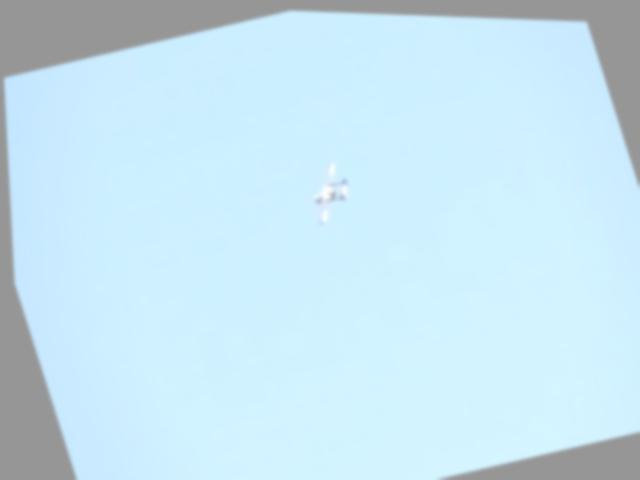uav: (297, 152, 361, 226)
